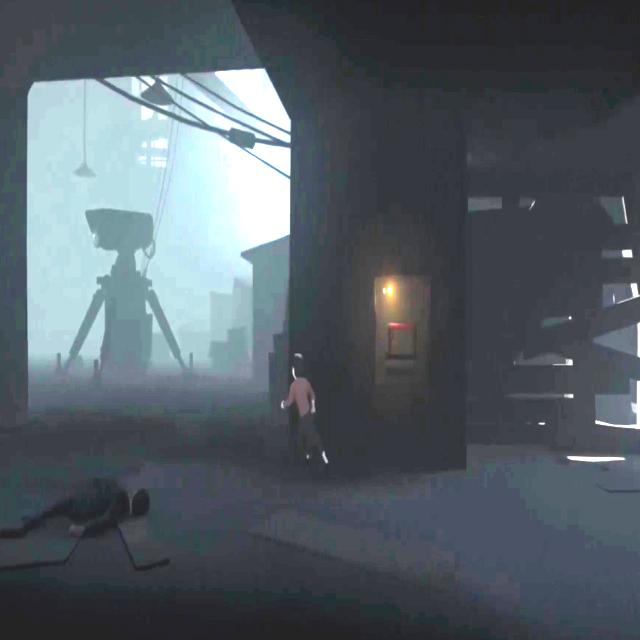boy: (282, 354, 329, 472)
zombie: (0, 475, 150, 539)
